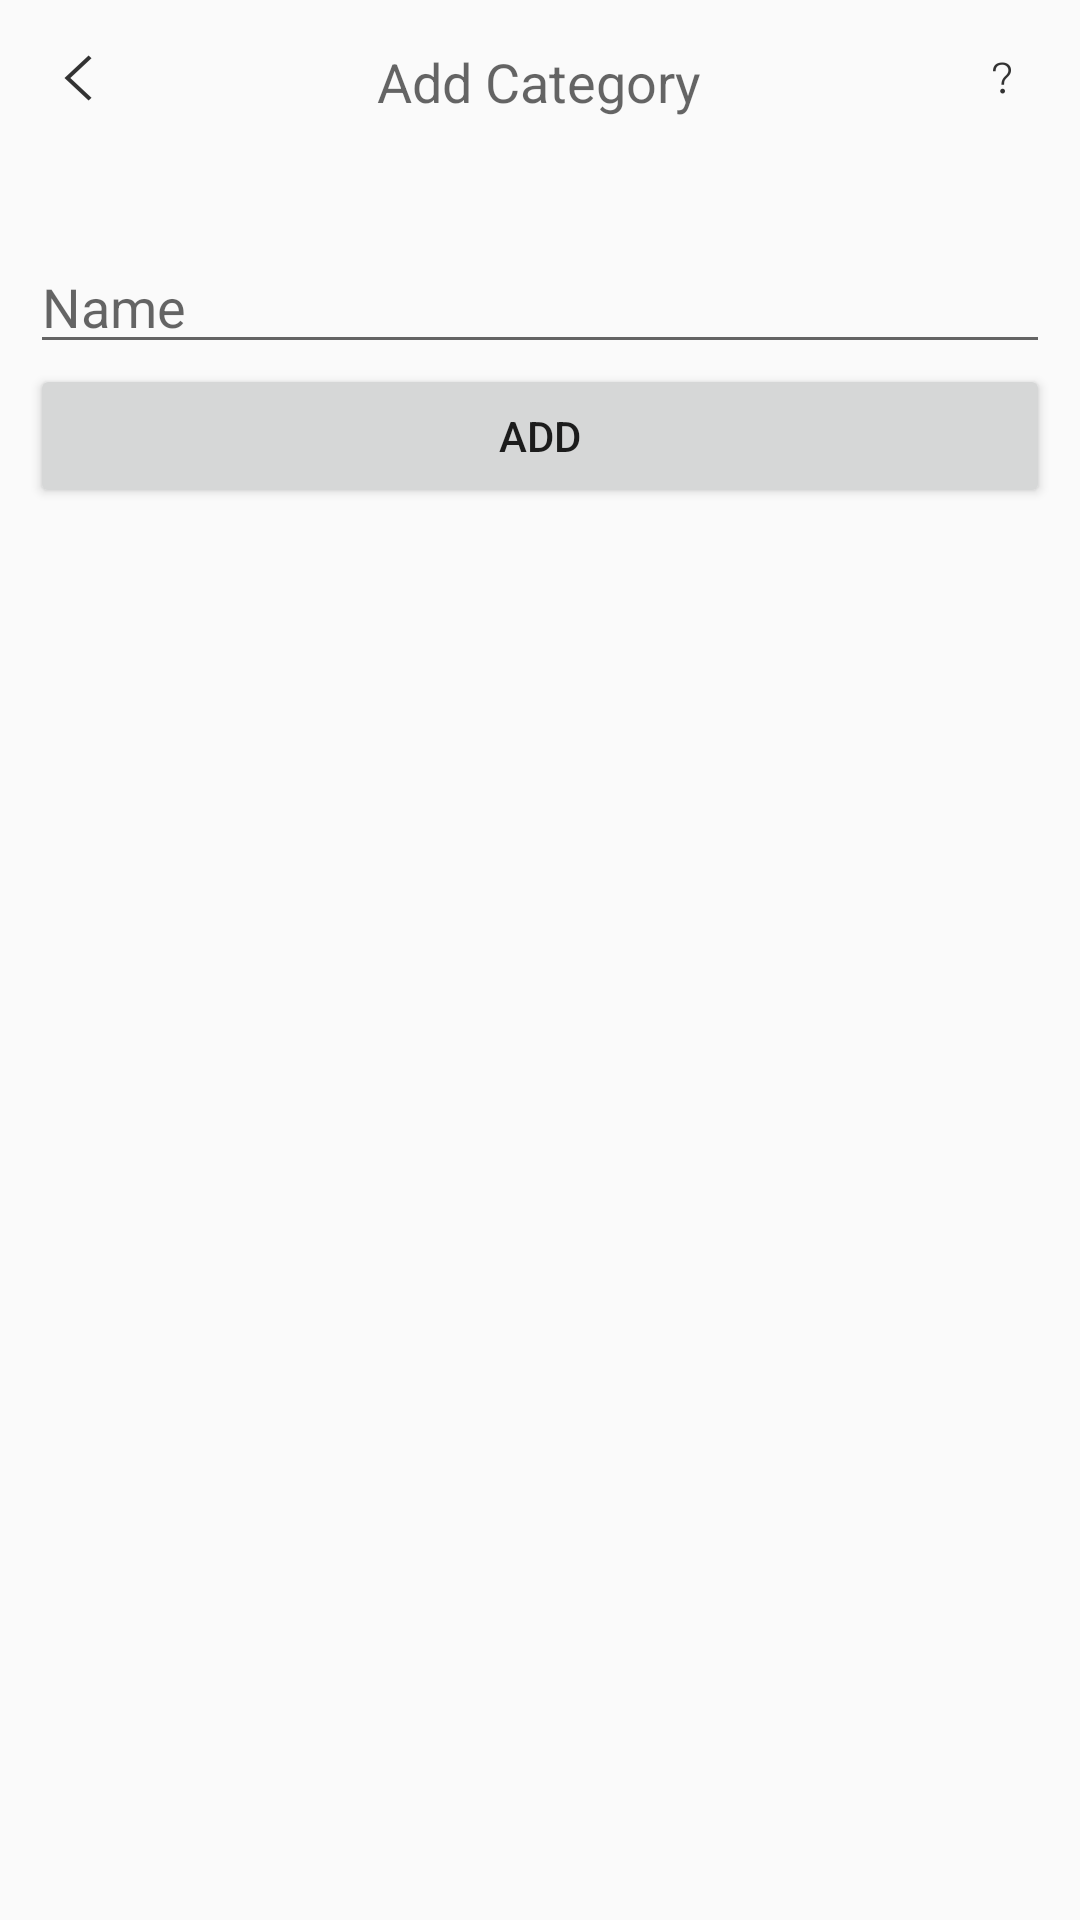

Locate icon controls on the screen. Image size 1080px x 1920px, boxes as bbox=(x1, y1, x2, y2).
help: bbox=(993, 62, 1011, 94)
